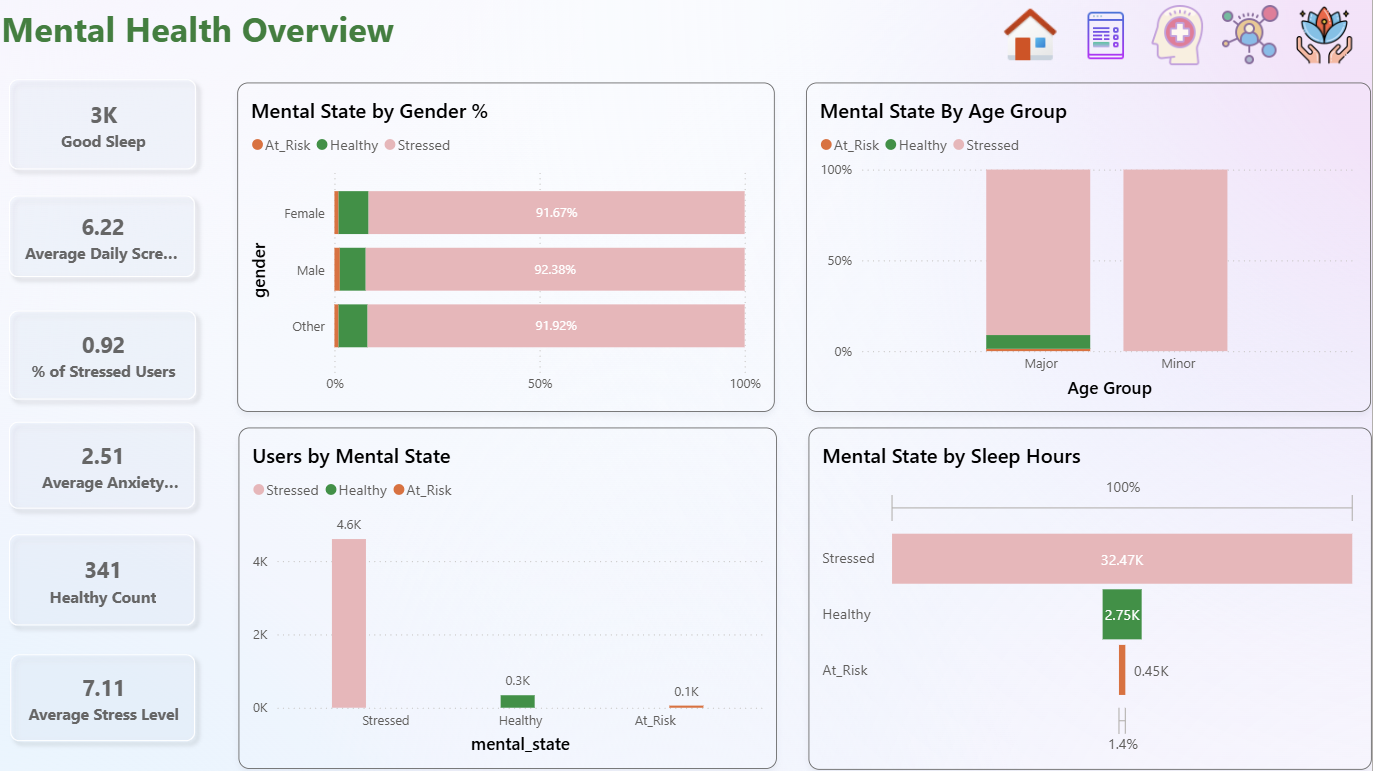

Layout of this report page (visuals, bound fields, positions):
{"tool":"powerbi","page":{"name":"Overview","canvas":[1280,720],"ordinal":1},"visuals":[{"type":"textbox","box":[0,0,1280.2,60.5],"z":0},{"type":"image","box":[932.6,5.9,59.3,55.8],"z":0,"group":"g3"},{"type":"clusteredColumnChart","title":"Users by Mental State","fields":{"Category":["mental_health_social_media_dataset.mental_state"],"Series":["mental_health_social_media_dataset.mental_state"],"Y":["mental_health_social_media_dataset.Total Users"]},"box":[225,397.7,501,317.4],"z":0,"group":"g1"},{"type":"image","box":[1064,4.7,69.8,55.8],"z":1000,"group":"g3"},{"type":"group","id":"g1","title":"Group 4","box":[224.4,76.7,1055.8,639.5],"z":1000},{"type":"hundredPercentStackedColumnChart","title":"Mental State By Age Group","fields":{"Category":["mental_health_social_media_dataset.Age Group"],"Series":["mental_health_social_media_dataset.mental_state"],"Y":["mental_health_social_media_dataset.Total Users"]},"box":[753.3,76.8,525.4,306.6],"z":1000,"group":"g1"},{"type":"cardVisual","fields":{"Data":["mental_health_social_media_dataset.Average Stress Level"]},"box":[1.3,596.4,196.2,105.9],"z":1000,"group":"g2"},{"type":"image","box":[1131.4,4.7,67.4,55.8],"z":2000,"group":"g3"},{"type":"group","id":"g2","title":"Group 2","box":[0,61.6,198.8,640.7],"z":2000},{"type":"hundredPercentStackedBarChart","title":"Mental State by Gender %","fields":{"Category":["mental_health_social_media_dataset.gender"],"Series":["mental_health_social_media_dataset.mental_state"],"Y":["CountNonNull(mental_health_social_media_dataset.gender)"]},"box":[224.4,76.7,500.2,306.7],"z":2000,"group":"g1"},{"type":"group","id":"g3","title":"Group 1","box":[932.6,4.7,339.5,57],"z":3000},{"type":"image","box":[1198.9,4.7,73.3,55.8],"z":3000,"group":"g3"},{"type":"cardVisual","fields":{"Data":["mental_health_social_media_dataset.Average Daily Screen Time"]},"box":[0,170.2,197.5,100.5],"z":3000,"group":"g2"},{"type":"cardVisual","fields":{"Data":["mental_health_social_media_dataset.Average Anxiety Level"]},"box":[0,380.5,197.5,105.9],"z":4000,"group":"g2"},{"type":"funnel","title":"Mental State by Sleep Hours","fields":{"Category":["mental_health_social_media_dataset.mental_state"],"Y":["Sum(mental_health_social_media_dataset.sleep_hours)"]},"box":[756.2,397.7,524,318.6],"z":4000,"group":"g1"},{"type":"cardVisual","fields":{"Data":["mental_health_social_media_dataset.% of Stressed Users"]},"box":[0,276.1,198.8,107.3],"z":6000,"group":"g2"},{"type":"cardVisual","fields":{"Data":["mental_health_social_media_dataset.Healthy Count"]},"box":[0.3,485,197.5,110],"z":7000,"group":"g2"},{"type":"cardVisual","fields":{"Data":["mental_health_social_media_dataset.Good Sleep"]},"box":[0,61.6,198.8,108.6],"z":9000,"group":"g2"},{"type":"image","box":[1001.2,5.9,62.8,54.7],"z":9012,"group":"g3"}]}

Visuals, with their boxes in screenshot pixels (x1, y1, x2, y2), scaled from the page's 1280x720 canvas onto the 1377x771 screenshot:
textbox: rect(0, 0, 1376, 65)
image: rect(1003, 6, 1067, 66)
"Users by Mental State" clusteredColumnChart: rect(242, 426, 781, 766)
image: rect(1145, 5, 1220, 65)
"Group 4" group: rect(241, 82, 1376, 767)
"Mental State By Age Group" hundredPercentStackedColumnChart: rect(810, 82, 1376, 411)
cardVisual - mental_health_social_media_dataset.Average Stress Level: rect(1, 639, 212, 752)
image: rect(1217, 5, 1290, 65)
"Group 2" group: rect(0, 66, 214, 752)
"Mental State by Gender %" hundredPercentStackedBarChart: rect(241, 82, 780, 411)
"Group 1" group: rect(1003, 5, 1369, 66)
image: rect(1290, 5, 1369, 65)
cardVisual - mental_health_social_media_dataset.Average Daily Screen Time: rect(0, 182, 212, 290)
cardVisual - mental_health_social_media_dataset.Average Anxiety Level: rect(0, 407, 212, 521)
"Mental State by Sleep Hours" funnel: rect(814, 426, 1376, 767)
cardVisual - mental_health_social_media_dataset.% of Stressed Users: rect(0, 296, 214, 411)
cardVisual - mental_health_social_media_dataset.Healthy Count: rect(0, 519, 213, 637)
cardVisual - mental_health_social_media_dataset.Good Sleep: rect(0, 66, 214, 182)
image: rect(1077, 6, 1145, 65)
